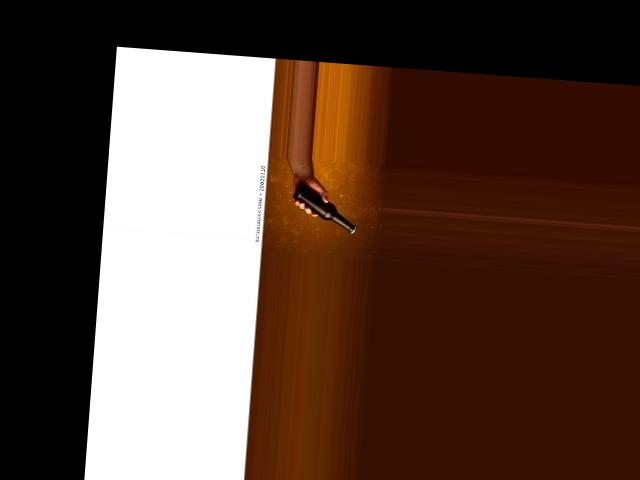beer: (290, 180, 360, 234)
